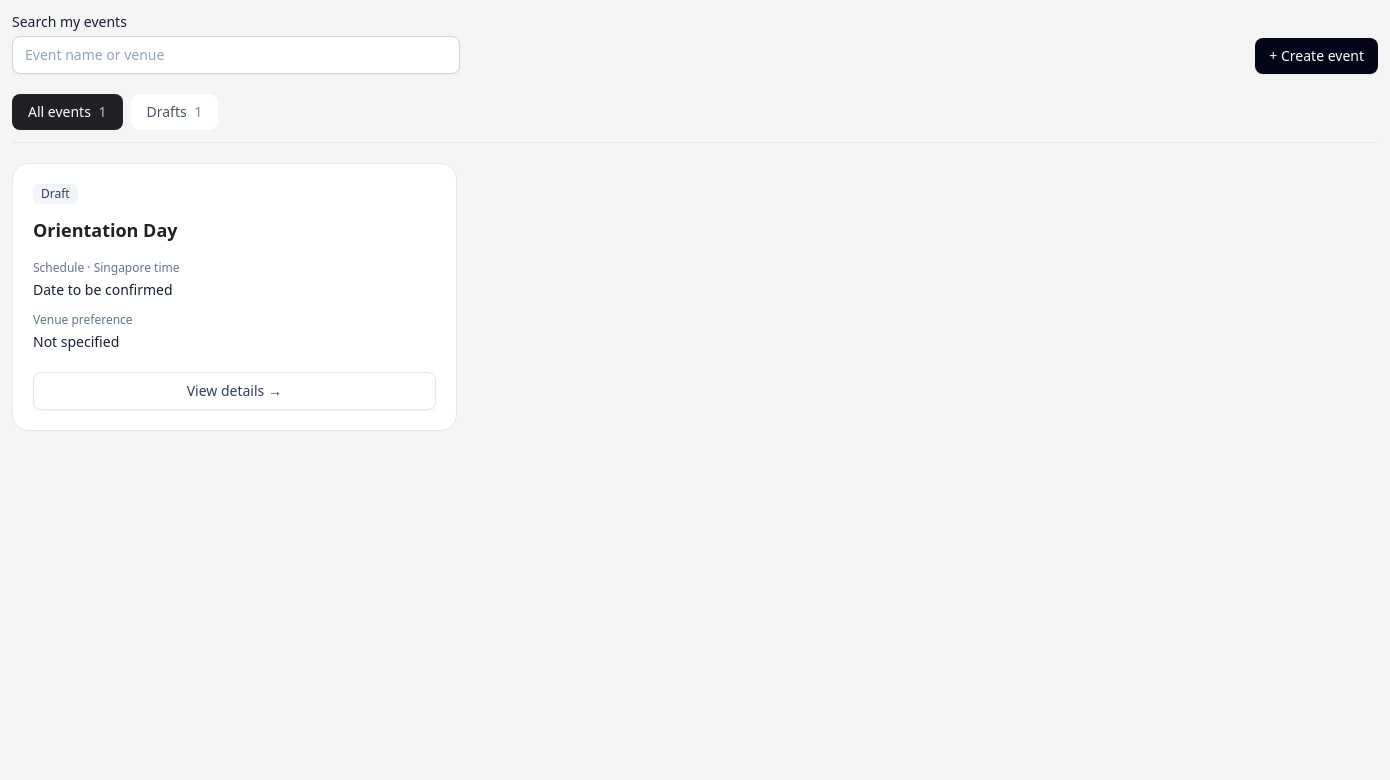
Test case: SCRUM-112 own drafts only (frontend unit) › shows no organisation drafts section and never requests the drafts list
The width and height of the screenshot is (1390, 780).
Click the button with aria-label "View details for Orientation Day": (234, 391) x1=33 y1=372 x2=436 y2=410
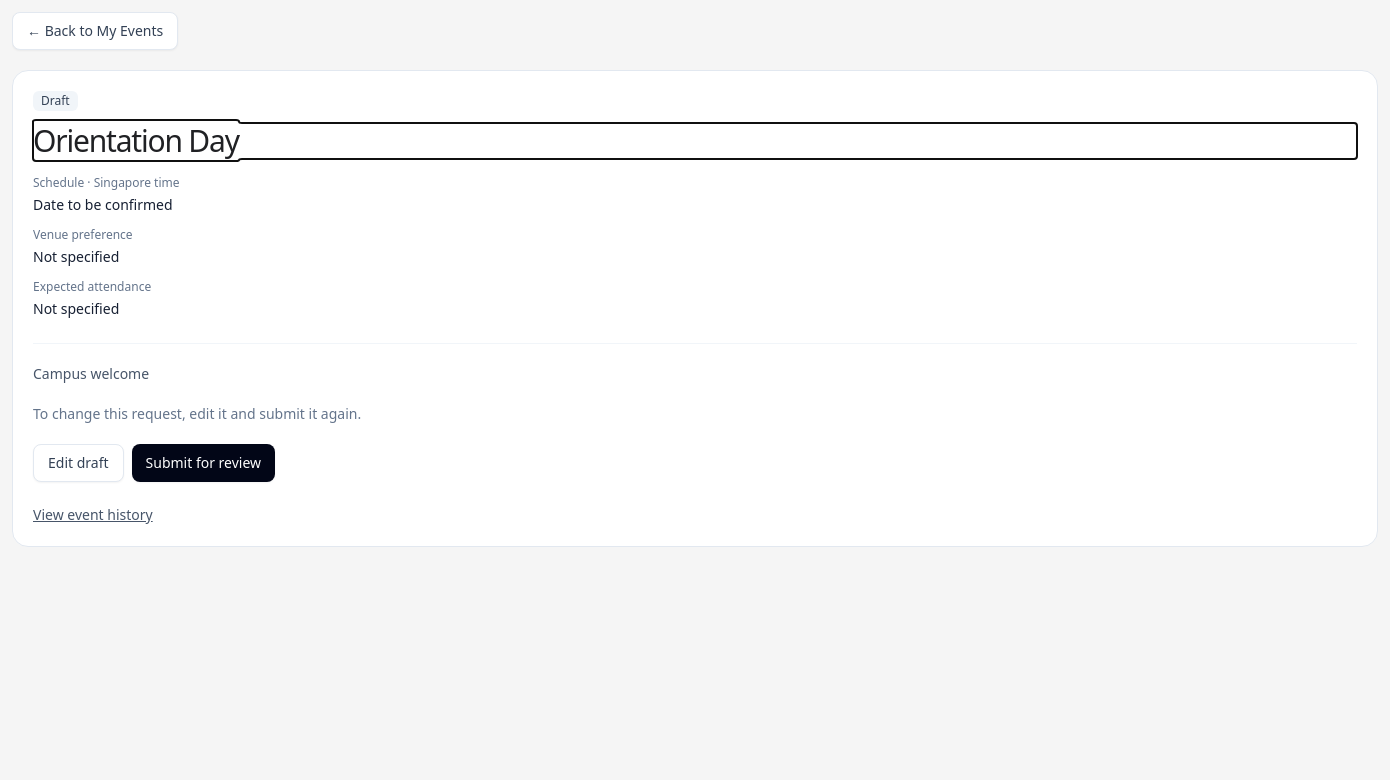
Check: the button with aria-label "Edit draft Orientation Day" is shown, box x1=33 y1=444 x2=124 y2=482
